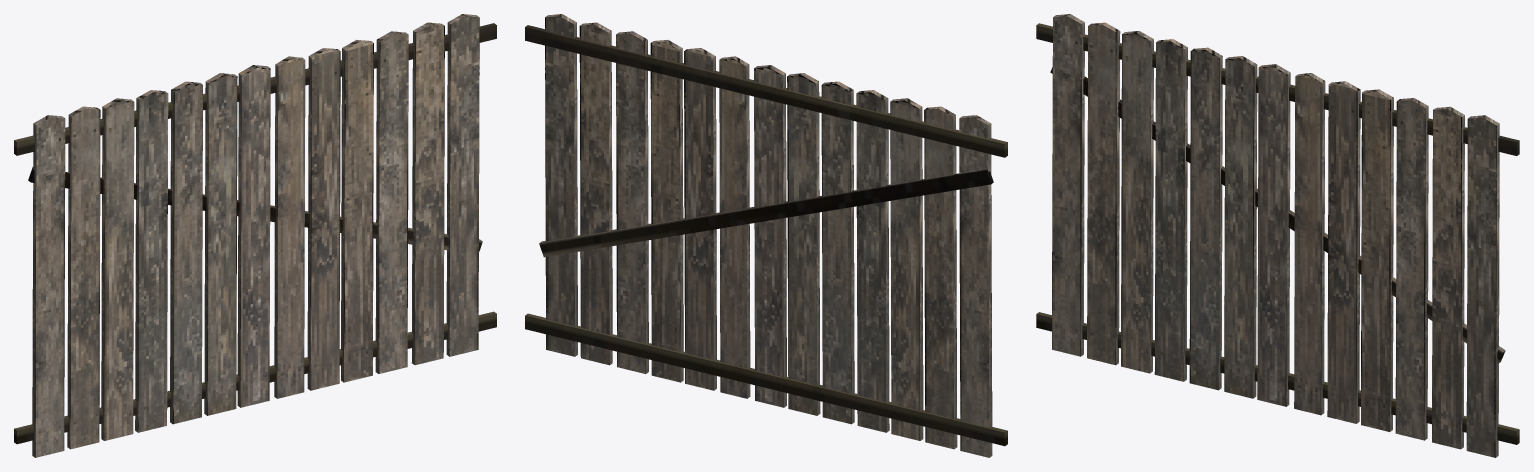
Rendered from Valla A.fbx.
3 views of the same model, side by side, from view 1: azimuth 30°, elevation 25°; view 2: azimuth 150°, elevation 25°; view 3: azimuth 330°, elevation 25° (orthographic).
Visible parts, largest first — view 1: Plano.002; view 2: Plano.002; view 3: Plano.002.
Part boxes in pixels (x1,y1,x2,y2): Plano.002: (14,14,496,457); Plano.002: (525,14,1007,457); Plano.002: (1036,14,1519,457).
Size of the model in its own units: 1070 by 718 by 16.21.
Materials: 1 (1 with a texture image).
